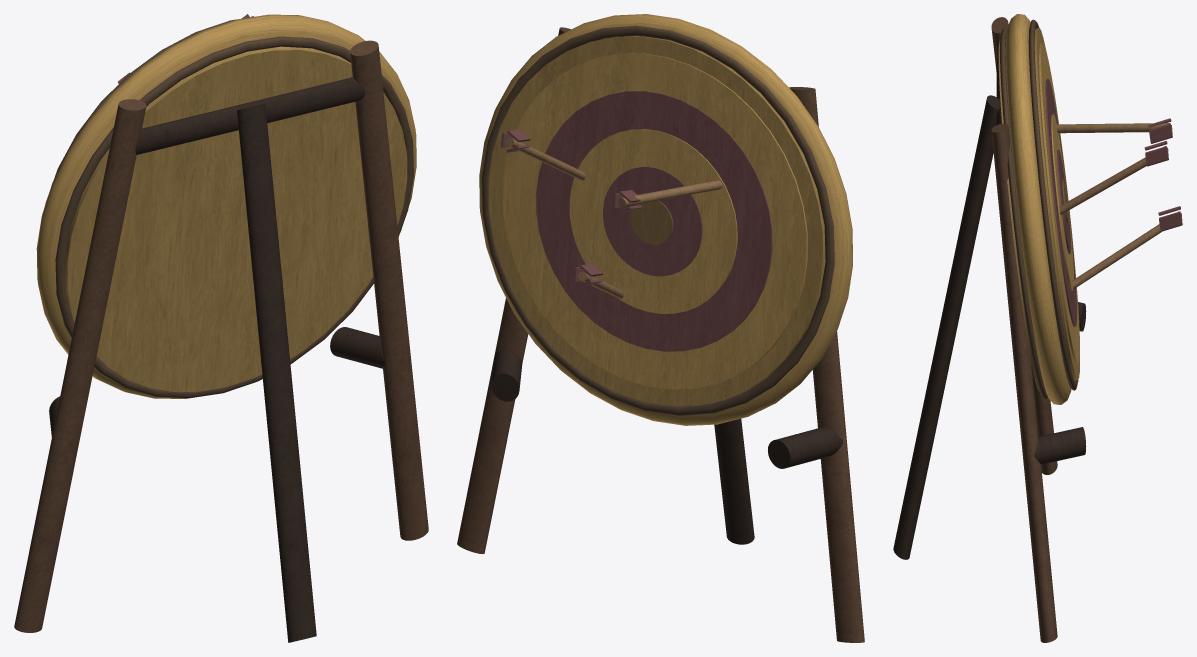
Rendered from archery_target.glb.
3 renders of one model, left to right at view 1: azimuth 30°, elevation 25°; view 2: azimuth 150°, elevation 25°; view 3: azimuth 270°, elevation 25°, orthographic. The views are drawn at different scales.
Visible parts, largest first — view 1: archery_target; view 2: archery_target; view 3: archery_target.
Boxes of the visible parts, left/top/right/bottom form: archery_target: left=14, top=14, right=428, bottom=642; archery_target: left=457, top=14, right=864, bottom=642; archery_target: left=893, top=14, right=1182, bottom=642.
Size of the model in its own units: 1.2 by 1.6 by 0.8.
Materials: 1 (1 with a texture image).
